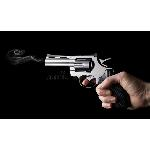Pistol: (44, 45, 140, 112)
